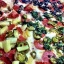olives: (25, 16, 46, 41), (36, 1, 54, 13), (32, 10, 44, 23)
pepperoni: (31, 37, 51, 50), (1, 49, 19, 63), (41, 48, 56, 64)
pizza: (1, 1, 64, 64)
